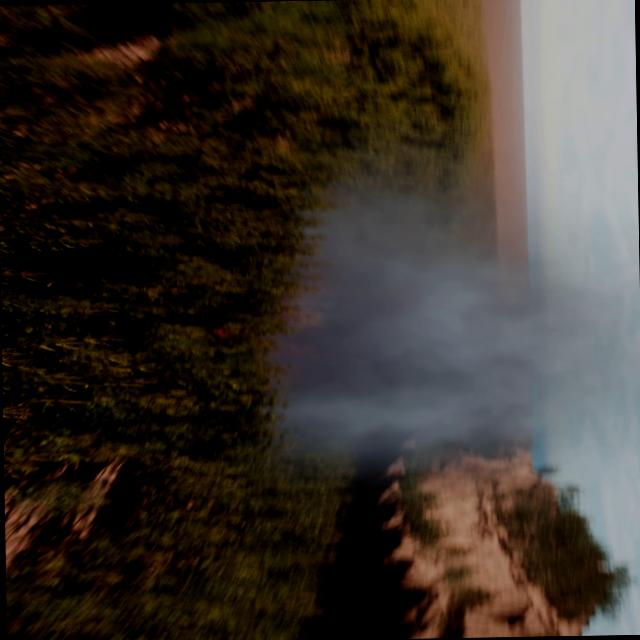smoke: (270, 141, 640, 480)
